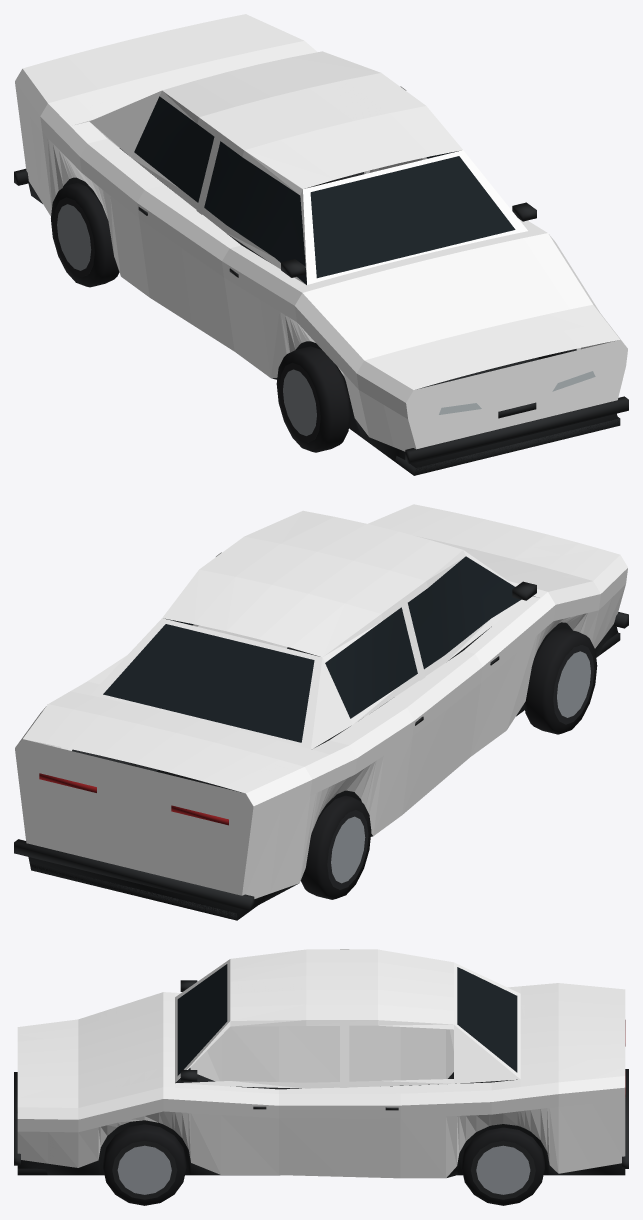
File: hayase_portico.glb
The picture shows the model from 3 angles, top to bottom: view 1: azimuth 30°, elevation 25°; view 2: azimuth 150°, elevation 25°; view 3: azimuth 270°, elevation 25°; orthographic projection. The views are drawn at different scales.
Parts seen in each view (by area): view 1: Body_Paint, Body_Details, Mount_FrontLeft_Wheel_Details, Mount_RearLeft_Wheel_Details; view 2: Body_Paint, Body_Details, Mount_FrontLeft_Wheel_Details, Mount_RearLeft_Wheel_Details; view 3: Body_Paint, Body_Details, Mount_FrontRight_Wheel_Details, Mount_RearRight_Wheel_Details.
Boxes of the visible parts, left/top/right/bottom form: Body_Paint: left=15, top=14, right=627, bottom=451; Body_Details: left=14, top=96, right=628, bottom=475; Mount_FrontLeft_Wheel_Details: left=276, top=346, right=350, bottom=452; Mount_RearLeft_Wheel_Details: left=51, top=182, right=119, bottom=287; Body_Paint: left=15, top=504, right=627, bottom=898; Body_Details: left=14, top=556, right=628, bottom=920; Mount_FrontLeft_Wheel_Details: left=524, top=628, right=597, bottom=734; Mount_RearLeft_Wheel_Details: left=300, top=795, right=371, bottom=899; Body_Paint: left=17, top=949, right=625, bottom=1178; Body_Details: left=14, top=964, right=628, bottom=1177; Mount_FrontRight_Wheel_Details: left=103, top=1124, right=186, bottom=1205; Mount_RearRight_Wheel_Details: left=461, top=1127, right=544, bottom=1205.
Bounding box in the file's own units: 1.98 × 1.48 × 4.78.
Materials: 2 (1 with a texture image).
